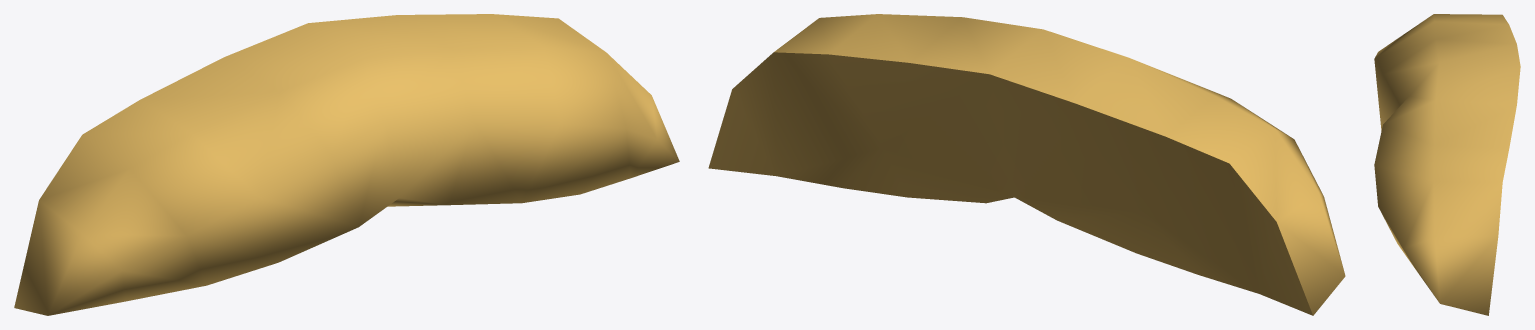
The model's file is Mustache_14.fbx.
3 renders of one model, left to right at view 1: azimuth 30°, elevation 25°; view 2: azimuth 150°, elevation 25°; view 3: azimuth 270°, elevation 25°, orthographic. The views are drawn at different scales.
Visible parts, largest first — view 1: Mustache_14; view 2: Mustache_14; view 3: Mustache_14.
Boxes of the visible parts, x1,y1,x2,y2 form: Mustache_14: (14, 14, 679, 315); Mustache_14: (708, 14, 1345, 315); Mustache_14: (1374, 14, 1520, 315).
Bounding box in the file's own units: 26.47 × 7.9 × 7.36.
